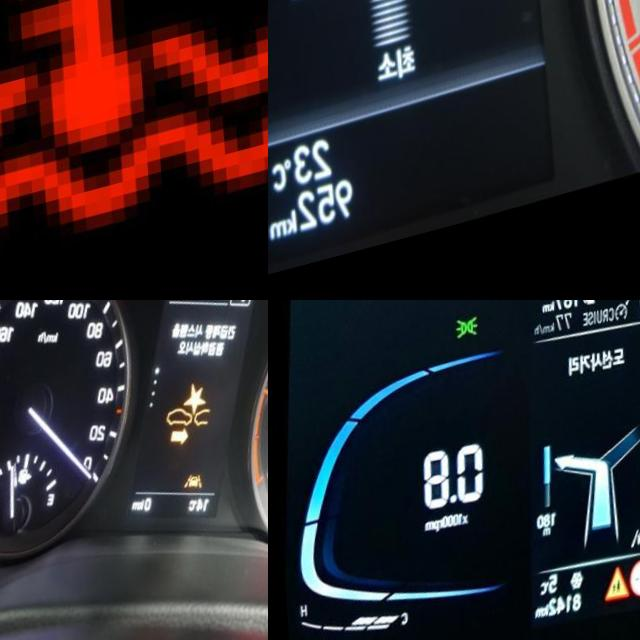Engine cooling system: (0, 0, 268, 278)
LaneCenteringOff: (178, 485, 201, 509), (625, 541, 640, 568)
SideLamp: (454, 322, 479, 351)
